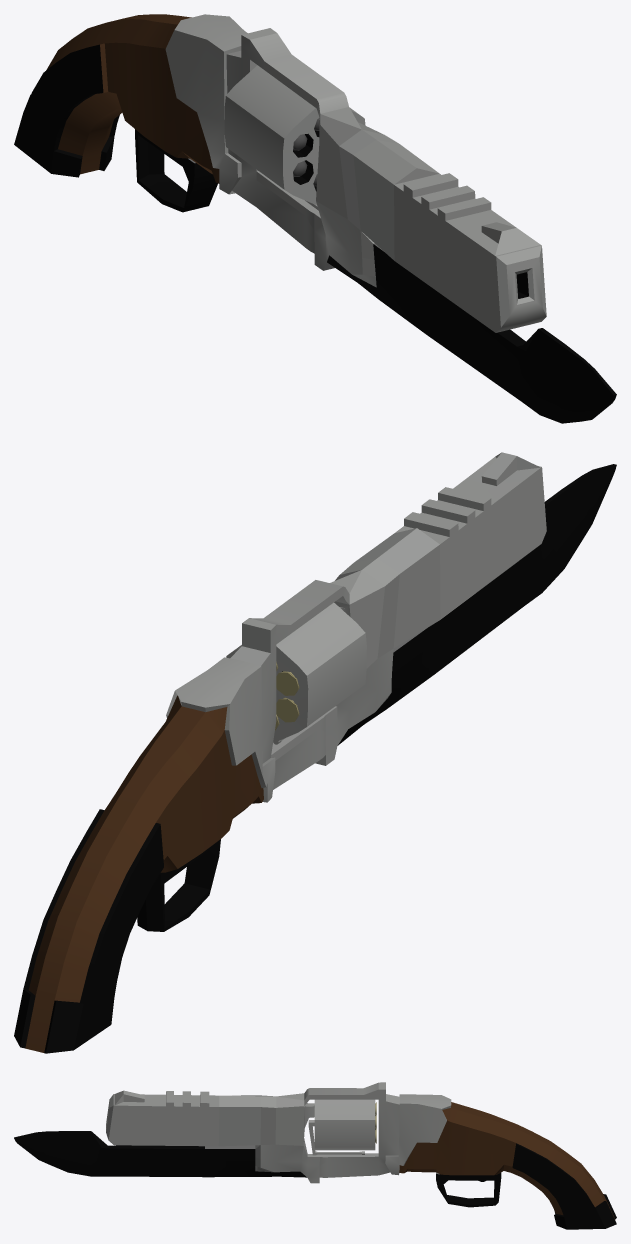
The model's file is guns.fbx.
The picture shows the model from 3 angles, top to bottom: view 1: azimuth 30°, elevation 25°; view 2: azimuth 150°, elevation 25°; view 3: azimuth 270°, elevation 25°; orthographic projection. The views are drawn at different scales.
Visible parts, largest first — view 1: Arma2, Tambor.002; view 2: Arma2, Tambor.002; view 3: Arma2, Tambor.002, Gancho tambor.002.
Part boxes in pixels (bbox=[...]): Arma2: bbox=[14, 14, 616, 423]; Tambor.002: bbox=[224, 65, 365, 204]; Arma2: bbox=[14, 452, 616, 1053]; Tambor.002: bbox=[226, 602, 366, 742]; Arma2: bbox=[14, 1082, 616, 1229]; Tambor.002: bbox=[314, 1099, 375, 1150]; Gancho tambor.002: bbox=[308, 1120, 364, 1155].
Bounding box in the file's own units: 2.89 × 8.74 × 34.99.
